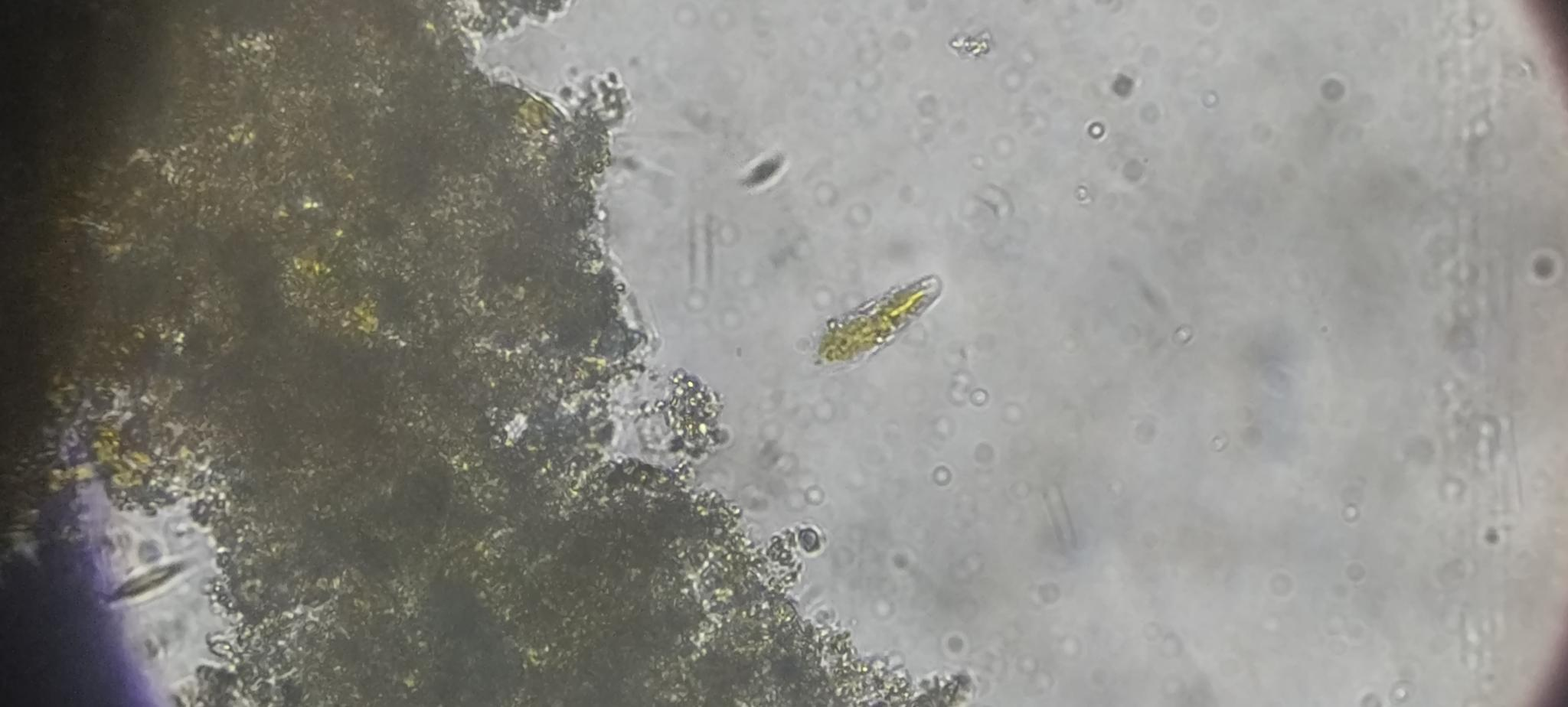Euglena: (789, 267, 972, 380)
